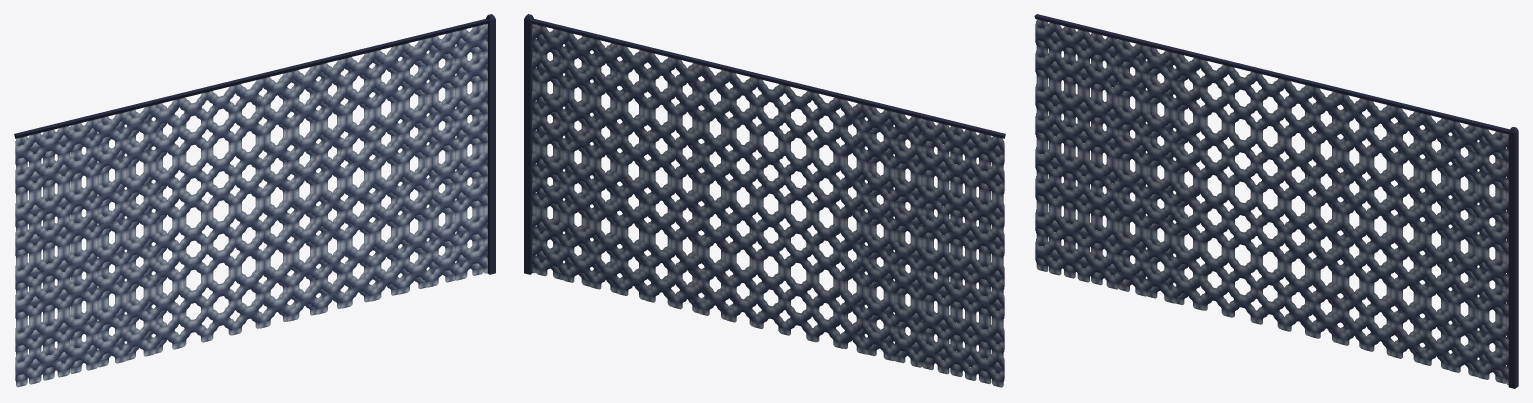
The model's file is Cerca_Armame.fbx.
3 views of the same model, side by side, from view 1: azimuth 30°, elevation 25°; view 2: azimuth 150°, elevation 25°; view 3: azimuth 330°, elevation 25° (orthographic).
Parts seen in each view (by area): view 1: Cerca_Arame; view 2: Cerca_Arame; view 3: Cerca_Arame.
Part boxes in pixels (x1,y1,x2,y2): Cerca_Arame: (14, 14, 495, 387); Cerca_Arame: (524, 14, 1005, 387); Cerca_Arame: (1034, 14, 1518, 388).
Bounding box in the file's own units: 608 × 8.04 × 313.
